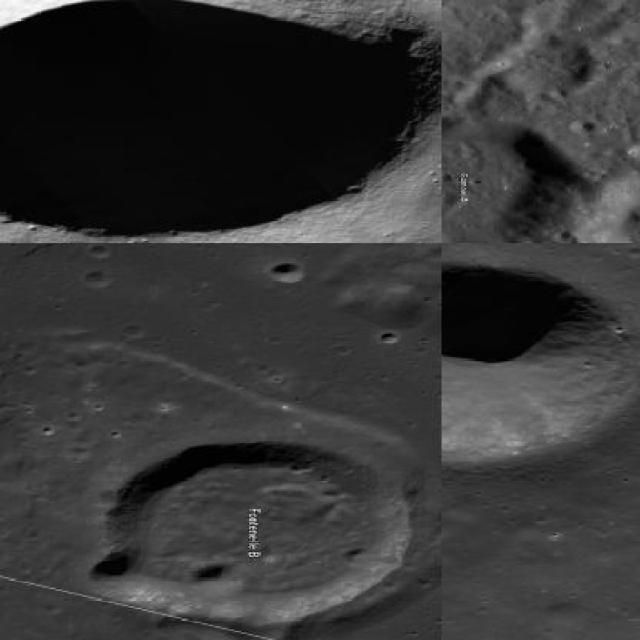crater: (0, 0, 440, 242), (111, 445, 412, 620), (441, 263, 634, 465), (442, 114, 584, 241), (90, 554, 136, 600), (268, 263, 304, 283), (378, 334, 397, 343)
